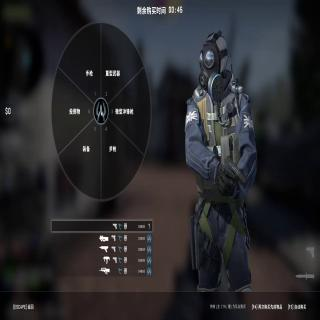CT-Body: (184, 30, 256, 293)
CT-Head: (198, 33, 232, 94)
